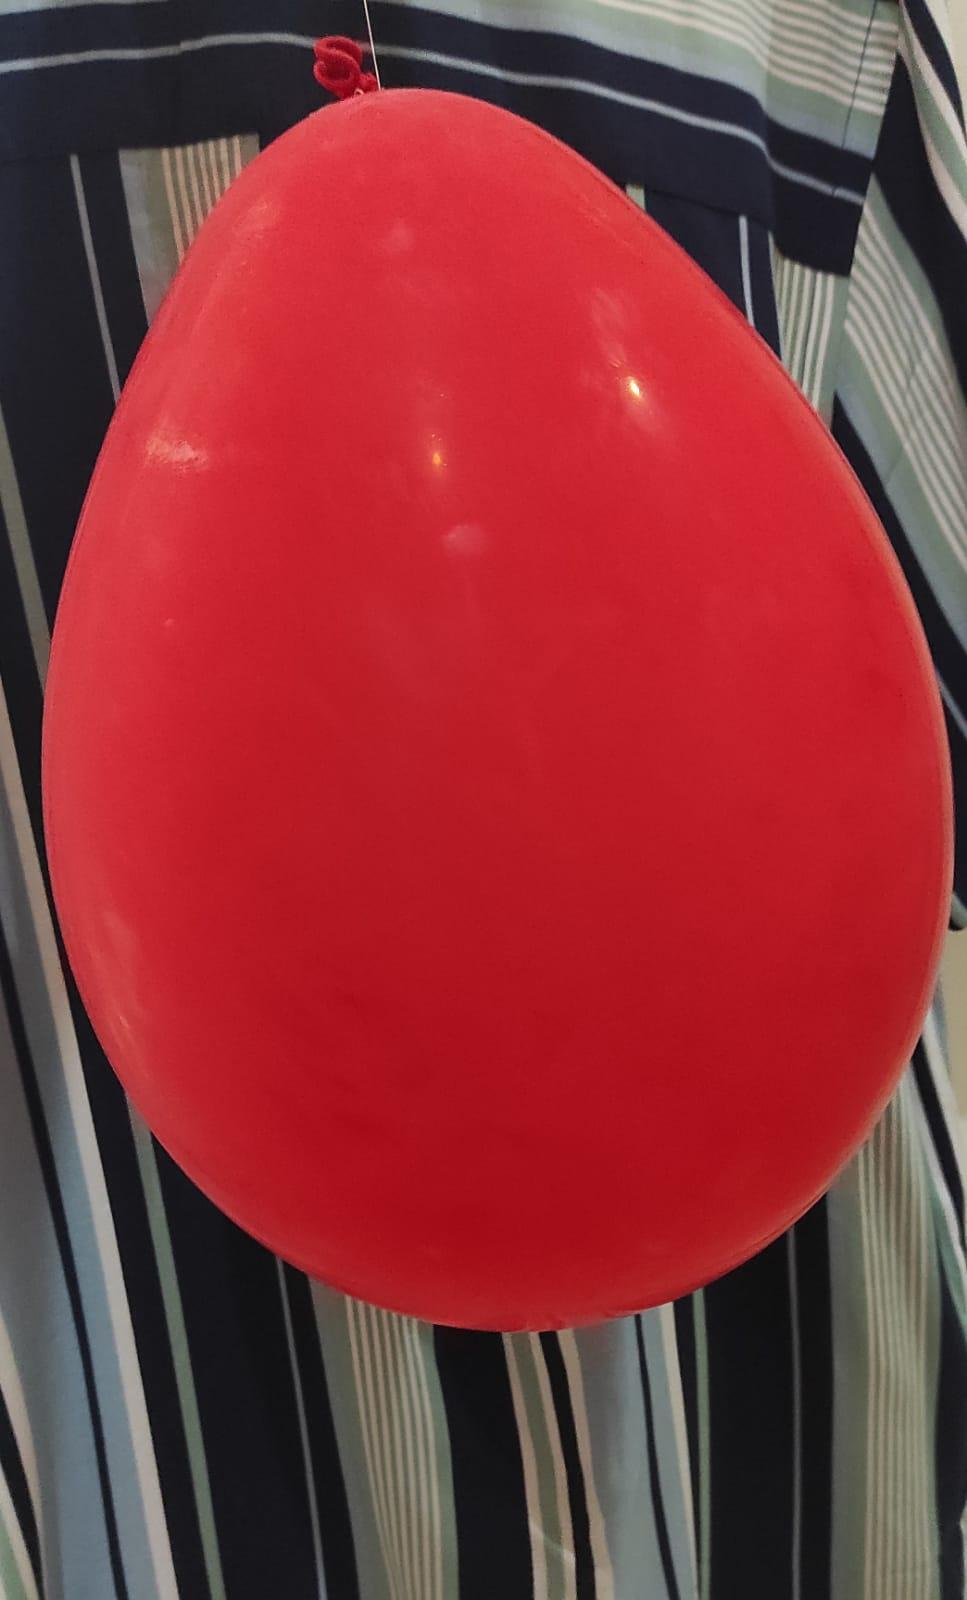red: (38, 24, 958, 1349)
